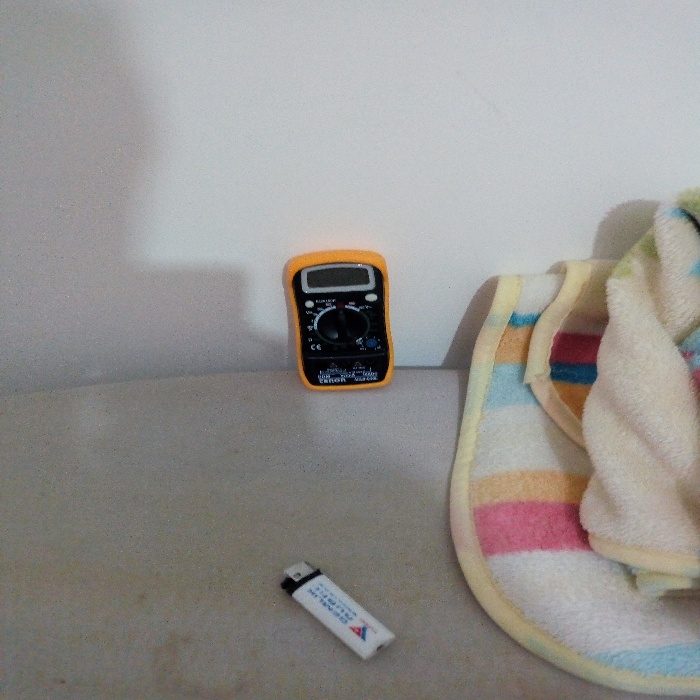multimetre: (280, 231, 396, 392)
